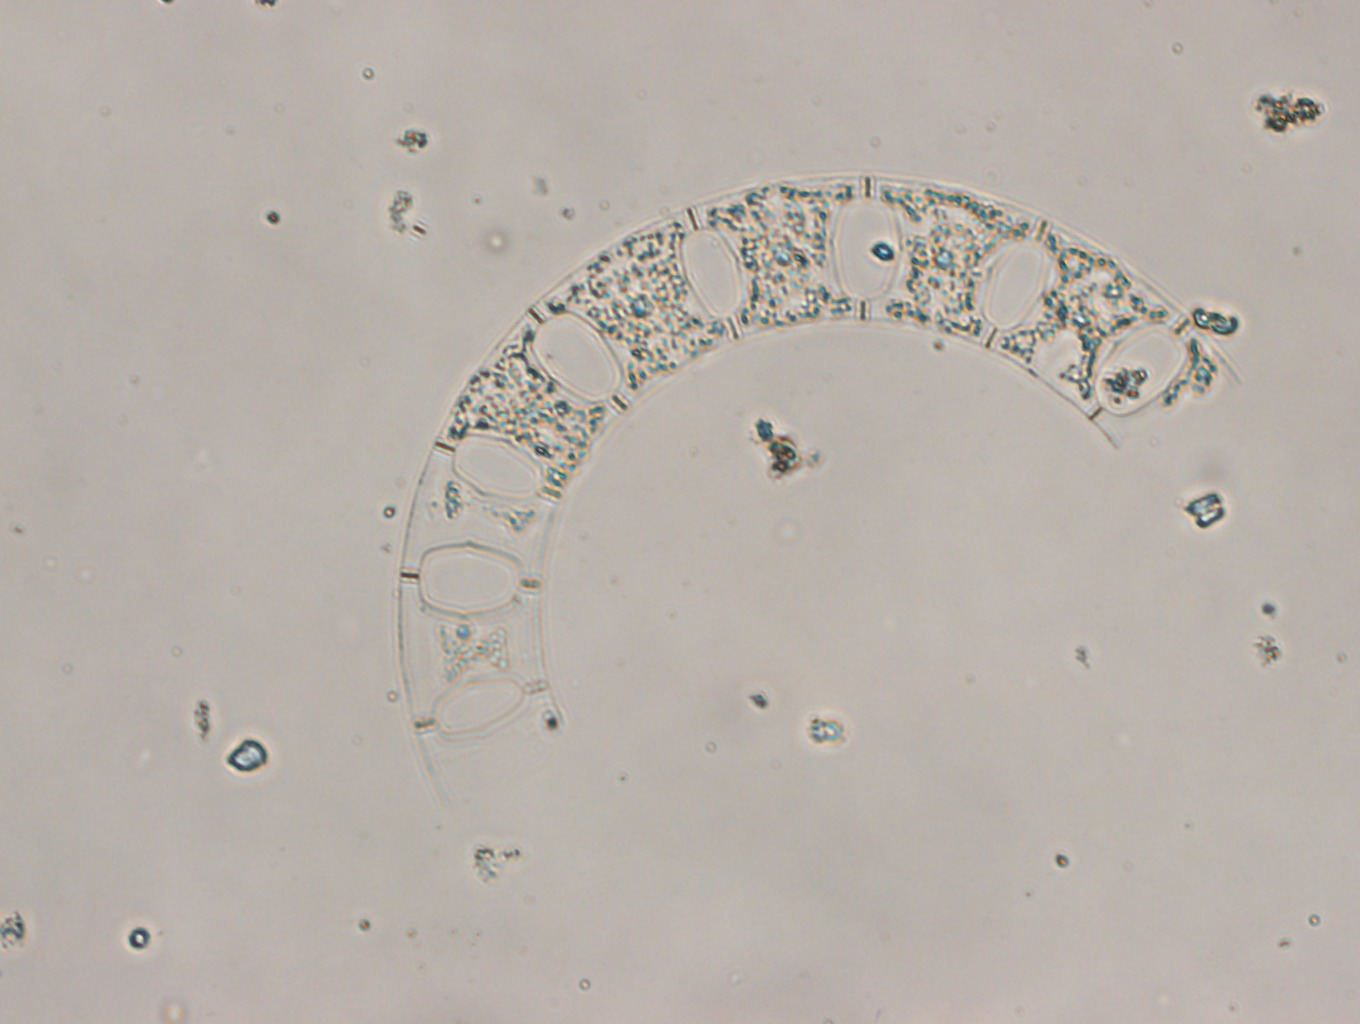eucampia: (385, 163, 1252, 801)
